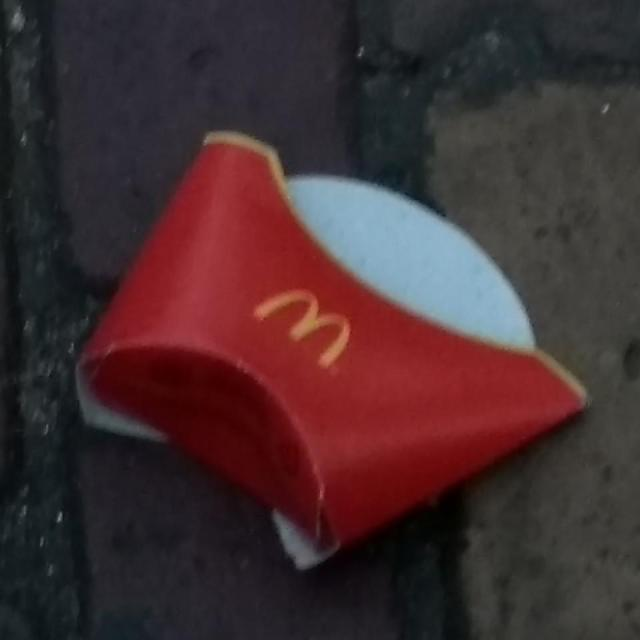Paper: (68, 125, 596, 572)
